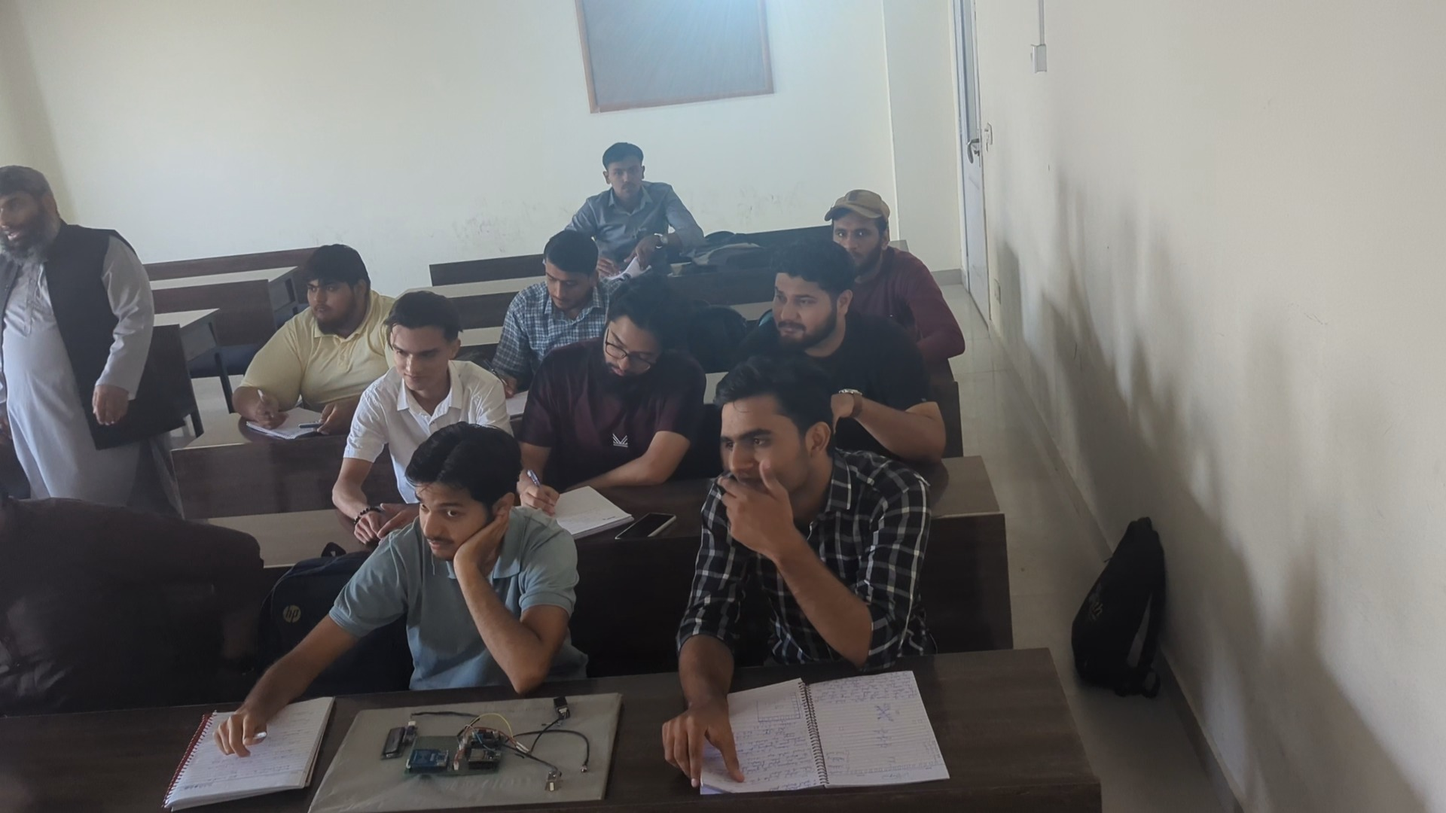look_forward: (687, 370, 934, 692), (382, 424, 579, 641), (746, 266, 959, 356), (258, 259, 386, 393), (586, 134, 717, 261), (809, 177, 934, 286)
sleep: (359, 306, 504, 427)
stand: (0, 147, 181, 524)
write: (524, 298, 671, 520), (482, 221, 576, 407)
